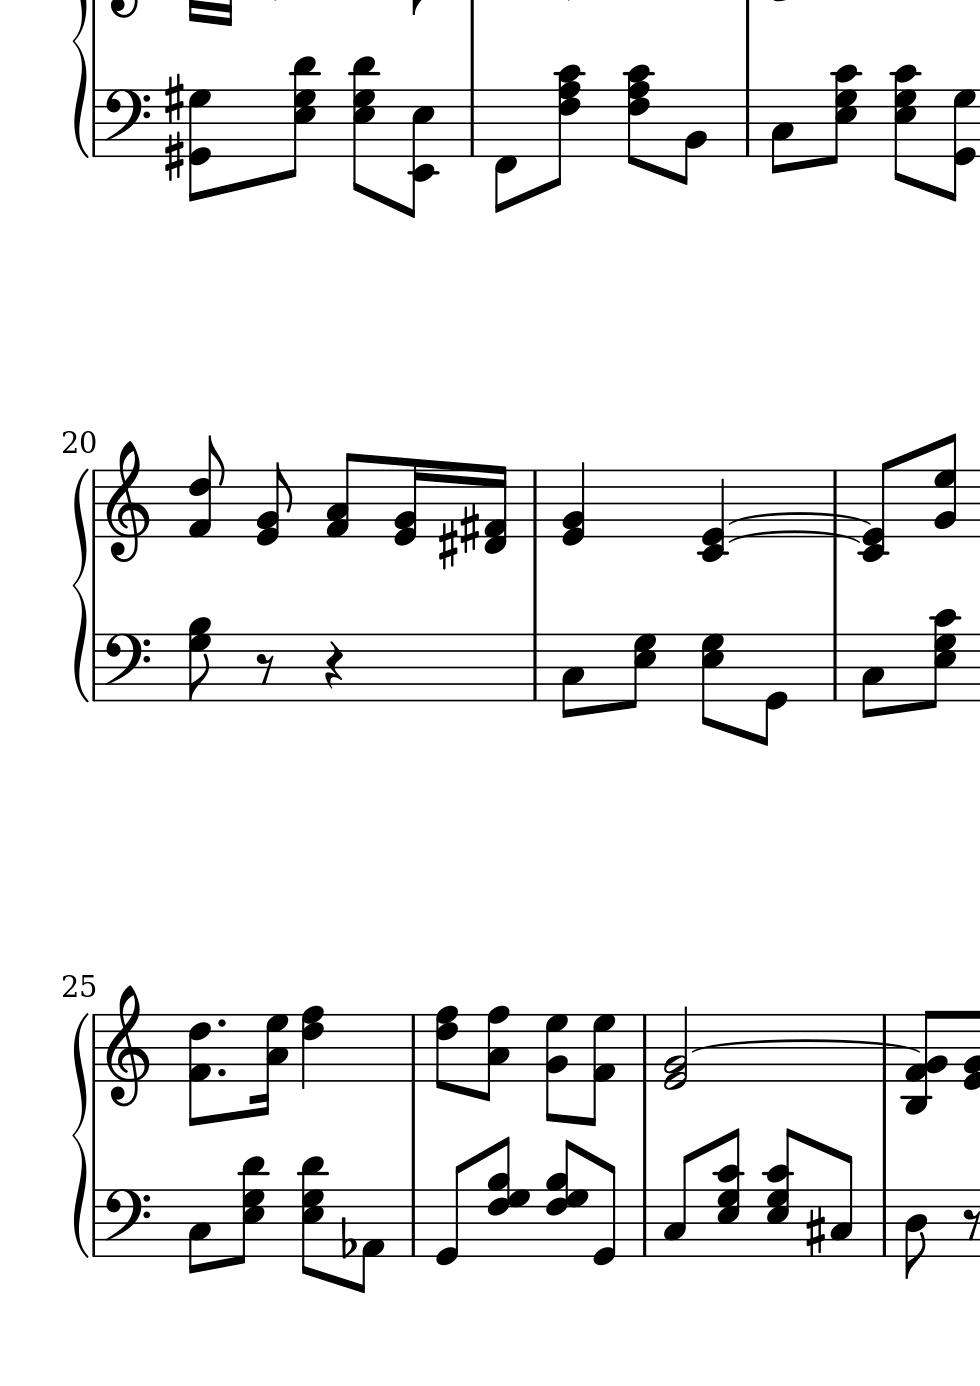0: (78, 428, 97, 456)
16_-1_1: (483, 464, 508, 555)
16_0_2: (393, 457, 428, 546)
16_3_7: (249, 1013, 288, 1119)
2: (60, 973, 78, 1000), (60, 429, 78, 455)
2_0_2: (662, 1005, 689, 1090)
4_-2_0: (697, 468, 730, 561)
4_0_2: (562, 462, 587, 545)
4_6_8: (300, 1005, 325, 1092)
5: (78, 971, 97, 1000)
8_-1: (492, 88, 518, 214)
8_-2_0: (858, 457, 897, 561)
8_-2_5: (404, 88, 440, 220)
8_0: (432, 1157, 470, 1269), (756, 631, 788, 748), (590, 1160, 618, 1270)
8_0_2: (253, 461, 293, 548)
8_0_7: (948, 88, 976, 204), (187, 88, 212, 203)
8_1: (355, 1187, 386, 1296)
8_1_3: (326, 452, 358, 539)
8_1_6: (187, 435, 226, 539), (187, 1013, 213, 1128)
8_1_7: (587, 1014, 616, 1128)
8_2: (675, 87, 708, 187)
8_2_7: (544, 1013, 568, 1126), (934, 432, 958, 540)
8_3: (661, 1148, 695, 1259), (828, 1150, 854, 1258), (768, 88, 794, 176), (185, 1188, 211, 1276), (559, 632, 584, 720), (859, 632, 885, 720)
8_3_8: (479, 1005, 510, 1099)
8_4: (903, 1187, 928, 1280)
8_5_7: (628, 632, 657, 710)
8_6_8: (434, 1006, 459, 1092)
8_7_9: (187, 617, 212, 703)
8_th: (279, 52, 326, 191), (543, 58, 585, 201), (345, 51, 383, 208), (487, 1136, 531, 1258), (899, 1011, 949, 1117), (229, 1151, 270, 1271), (547, 1139, 590, 1257), (762, 1127, 800, 1257), (887, 63, 923, 191), (296, 1153, 330, 1281), (822, 62, 863, 166), (620, 62, 657, 176), (712, 1129, 742, 1260), (923, 604, 962, 706), (692, 1040, 916, 1054)
Brace: (71, 1011, 91, 1255), (71, 470, 89, 699), (71, 1, 89, 162)
Fclef: (101, 87, 151, 158), (101, 1187, 150, 1258), (102, 631, 150, 703)
Flat: (338, 1215, 356, 1262)
Gclef: (104, 439, 151, 565), (104, 984, 150, 1107)
Rests4: (323, 641, 345, 691)
Rests8: (960, 1206, 979, 1242), (255, 651, 275, 685)
Sharp: (438, 513, 459, 571), (804, 1205, 826, 1258), (162, 71, 183, 123), (459, 504, 479, 557), (164, 130, 183, 183)
Single_barline: (524, 634, 546, 701), (524, 471, 545, 537), (738, 89, 757, 156), (826, 470, 845, 536), (825, 634, 844, 700), (462, 89, 480, 156), (875, 1189, 892, 1256), (404, 1190, 421, 1256), (636, 1190, 653, 1256), (876, 1014, 892, 1083), (637, 1014, 653, 1081), (405, 1015, 421, 1081), (88, 1015, 102, 1082), (88, 1189, 102, 1256), (88, 471, 101, 539), (89, 91, 101, 156), (89, 635, 101, 700)
Slur: (728, 511, 872, 528), (727, 530, 860, 545)
dot: (214, 1016, 229, 1031), (215, 1065, 228, 1080)
